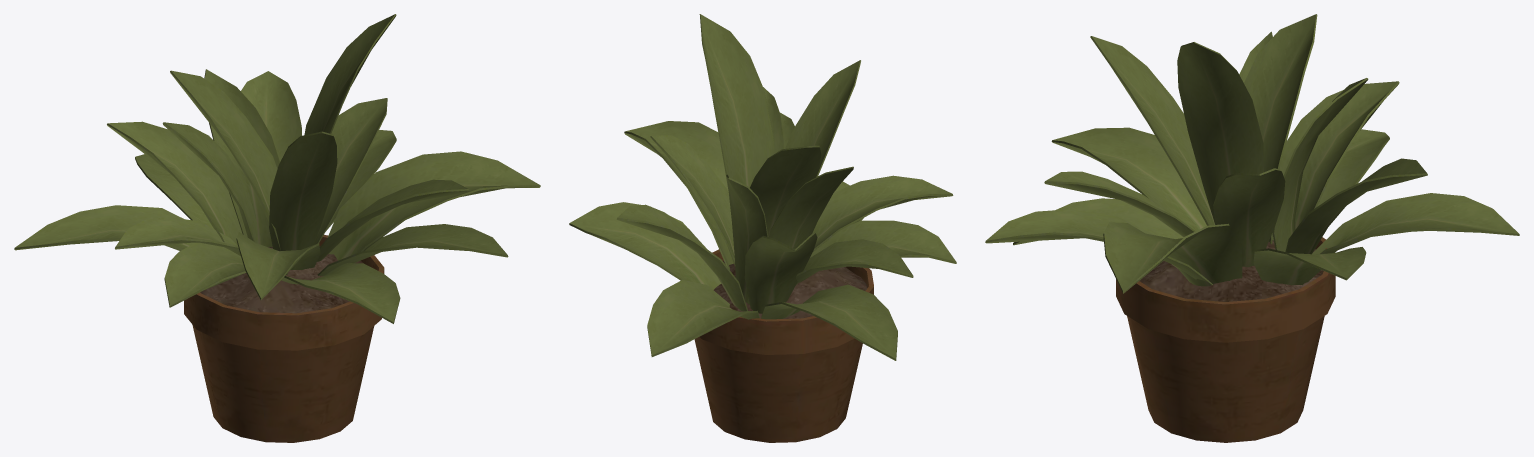
The model's file is small_potted_plants.glb.
The picture shows the model from 3 angles, left to right: view 1: azimuth 30°, elevation 25°; view 2: azimuth 150°, elevation 25°; view 3: azimuth 270°, elevation 25°; orthographic projection. The views are drawn at different scales.
Visible parts, largest first — view 1: Potted_plants_Potted_plants_0; view 2: Potted_plants_Potted_plants_0; view 3: Potted_plants_Potted_plants_0.
Boxes of the visible parts, x1,y1,x2,y2 form: Potted_plants_Potted_plants_0: [14, 14, 540, 442]; Potted_plants_Potted_plants_0: [569, 14, 956, 442]; Potted_plants_Potted_plants_0: [985, 14, 1519, 442].
Bounding box in the file's own units: 0.4315 × 0.3921 × 0.4524.
Materials: 1 (1 with a texture image).
